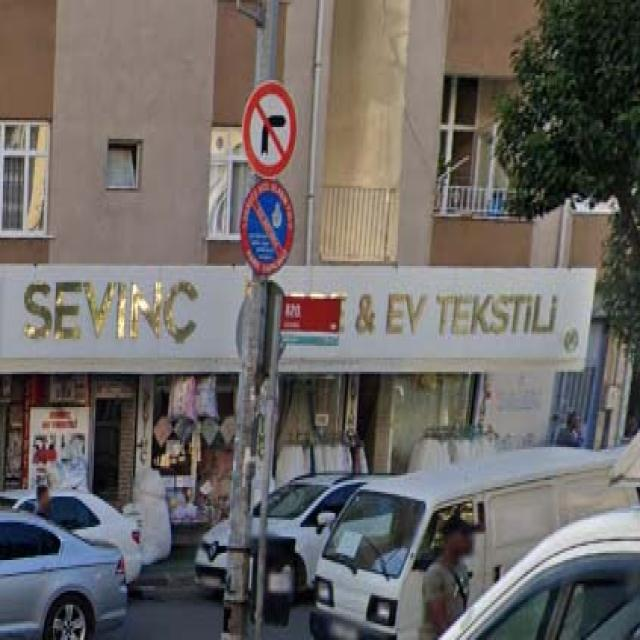parkyasak: (240, 179, 294, 273)
sagadonulmez: (242, 82, 297, 176)
